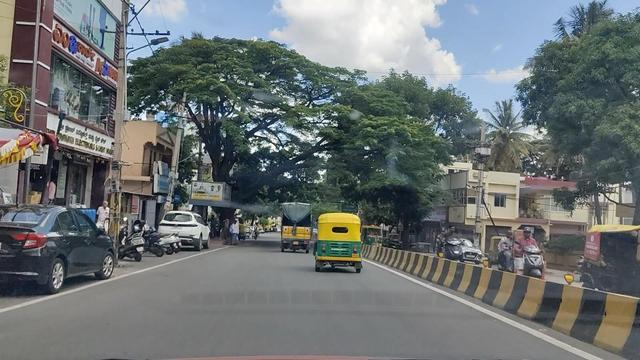HMV: (282, 202, 311, 252)
LMV: (319, 214, 358, 271)
